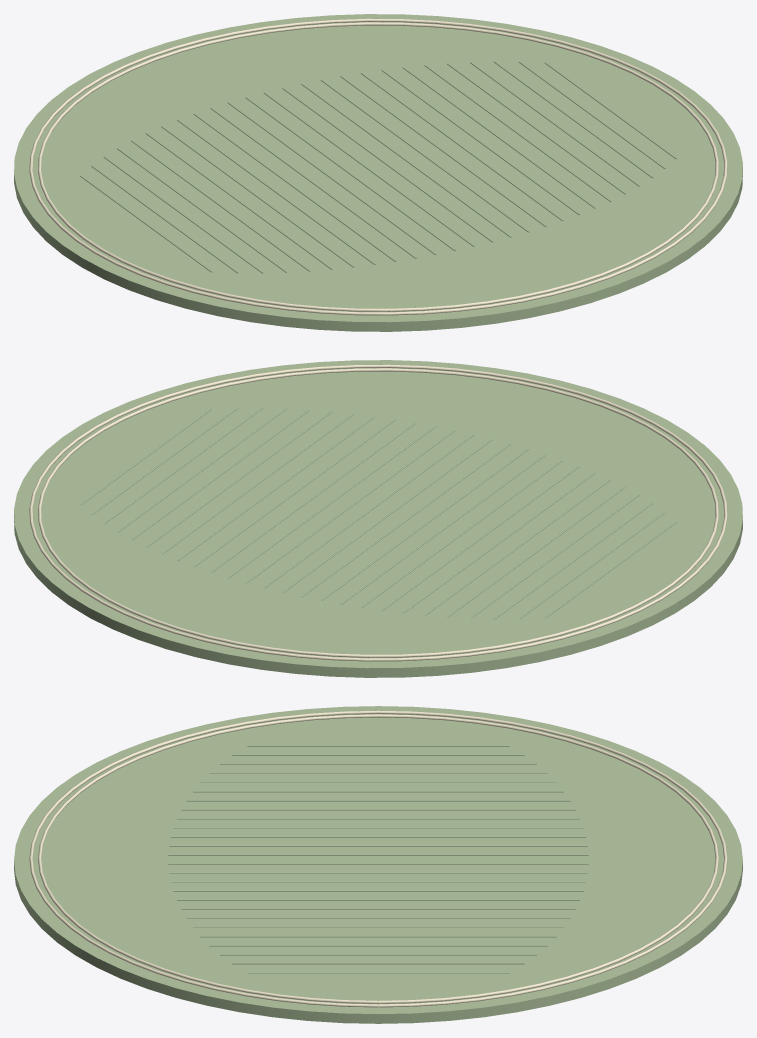
File: botanic-rug.glb
The picture shows the model from 3 angles, top to bottom: view 1: azimuth 30°, elevation 25°; view 2: azimuth 150°, elevation 25°; view 3: azimuth 270°, elevation 25°; orthographic projection.
Parts seen in each view (by area): view 1: Rug.003; view 2: Rug.003; view 3: Rug.003.
Part boxes in pixels (bbox=[...]): Rug.003: bbox=[14, 14, 742, 331]; Rug.003: bbox=[14, 360, 742, 677]; Rug.003: bbox=[14, 706, 742, 1023].
Size of the model in its own units: 3.4 by 0.063 by 3.4.
